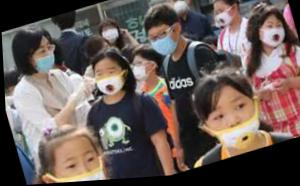OK: (93, 64, 130, 100), (24, 43, 60, 79), (149, 27, 183, 61), (258, 20, 287, 52), (130, 56, 157, 86), (214, 4, 240, 30), (100, 23, 122, 45), (169, 1, 191, 17)
WRONG: (203, 96, 265, 158), (52, 145, 110, 184)
